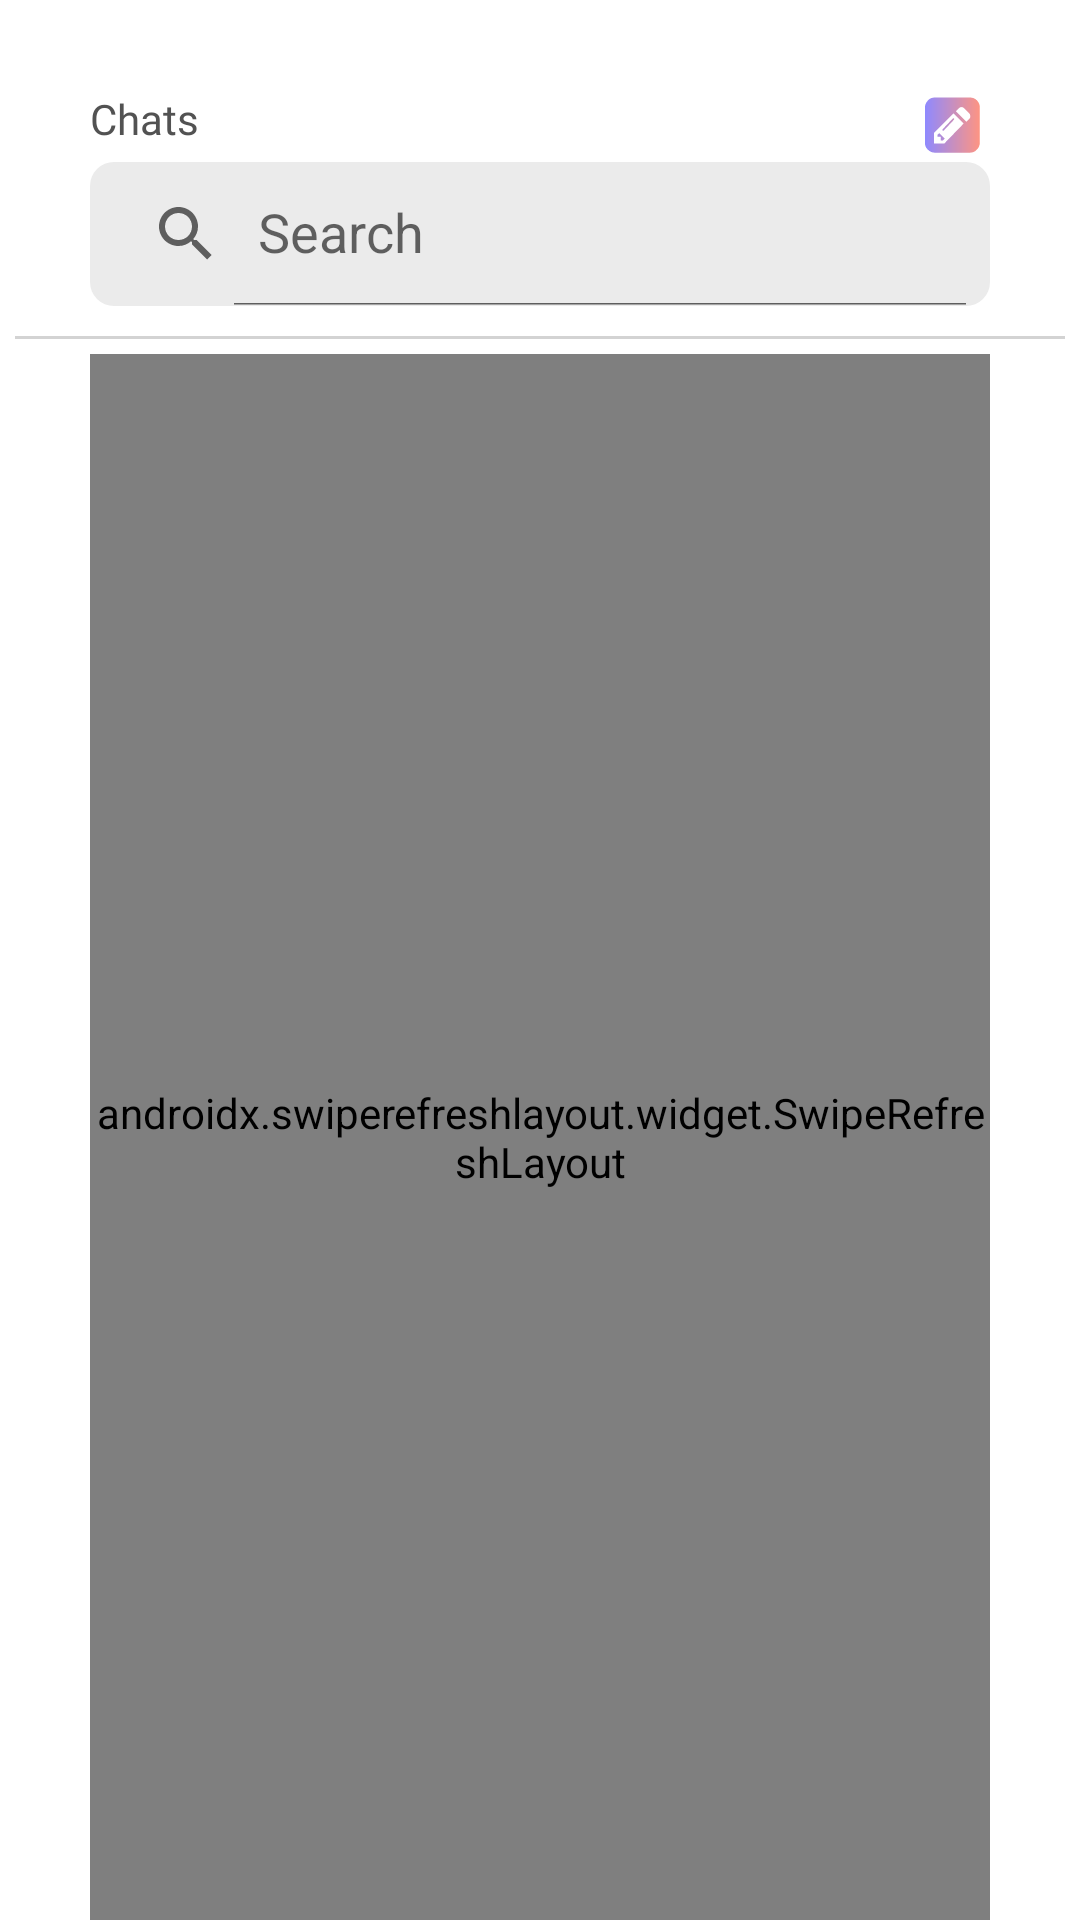

Named icons in this screenshot (1080 × 1920) and their bounding boxes, (x1, y1, x2, y2):
edit: (925, 97, 980, 153)
